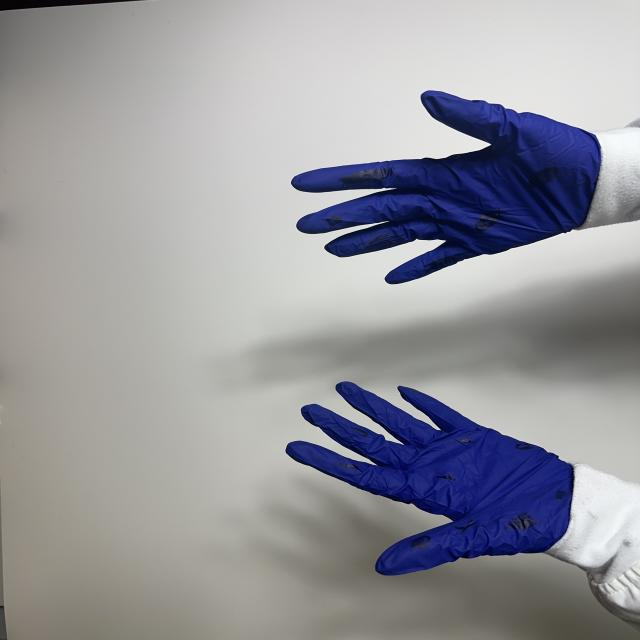gloves_contaminated: (281, 86, 599, 294), (284, 373, 578, 580)
